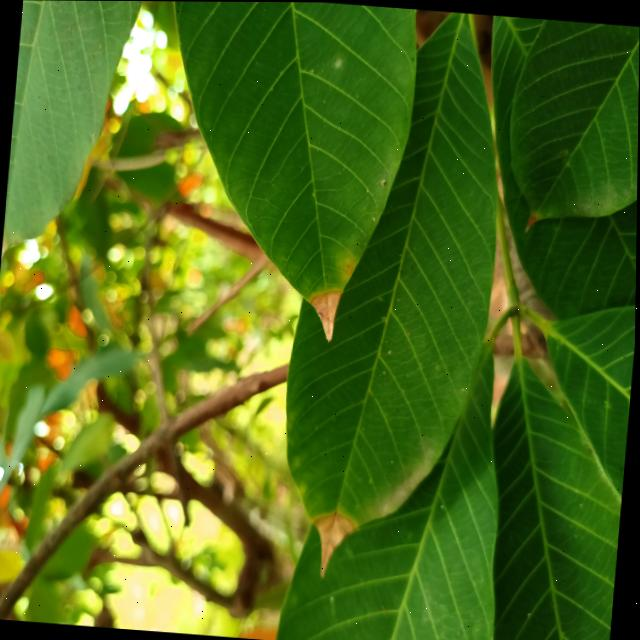Leaf-Blight: (309, 509, 357, 579), (307, 290, 343, 343)
